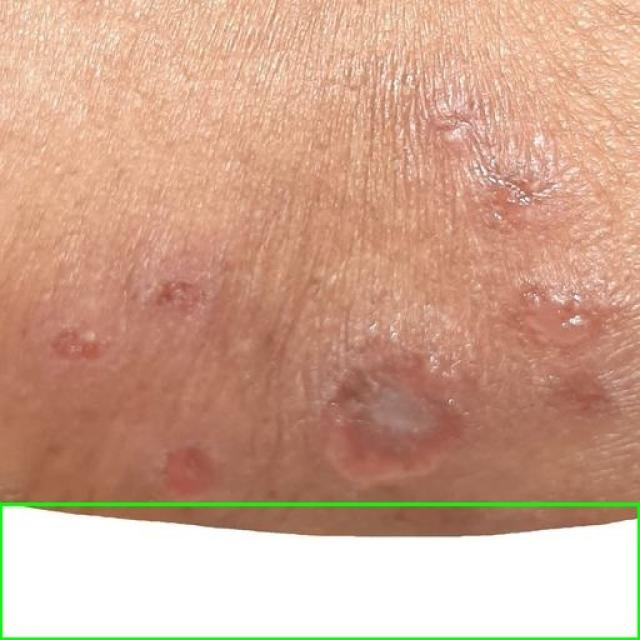Contact Dermatitis: (0, 504, 639, 639)
